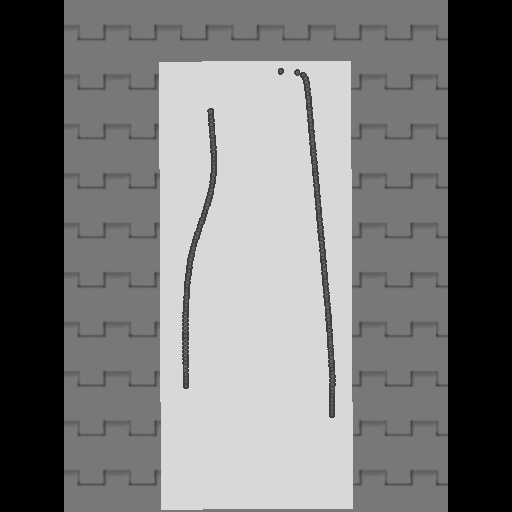Defect: (177, 387, 333, 496)
